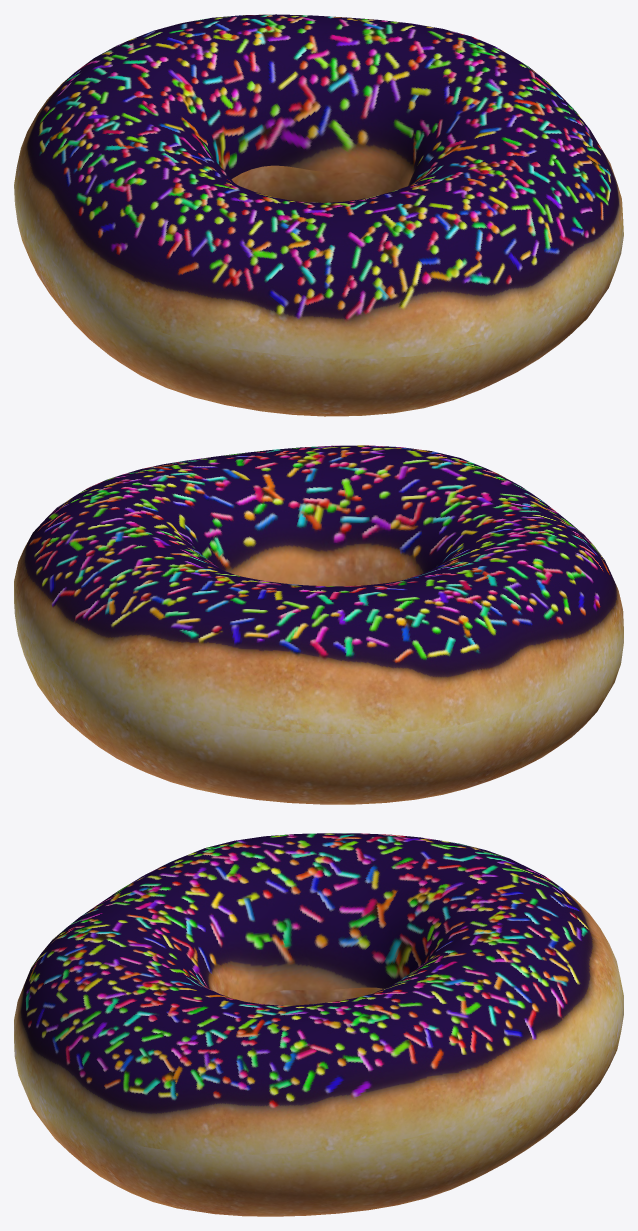
Rendered from Donut2.obj.
3 views of the same model, one above another, from view 1: azimuth 30°, elevation 25°; view 2: azimuth 150°, elevation 25°; view 3: azimuth 270°, elevation 25° (orthographic).
Parts seen in each view (by area): view 1: donut083; view 2: donut083; view 3: donut083.
Part boxes in pixels (box(x1,y1,x2,y2)): donut083: box(14, 14, 623, 416); donut083: box(14, 445, 623, 804); donut083: box(14, 833, 623, 1216).
Size of the model in its own units: 9.35 by 3.88 by 9.66.
Materials: 1 (1 with a texture image).
